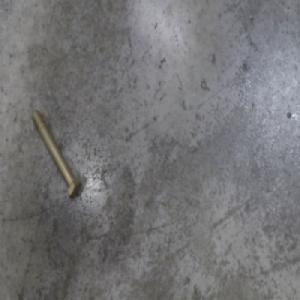Bolt: (30, 104, 82, 201)
